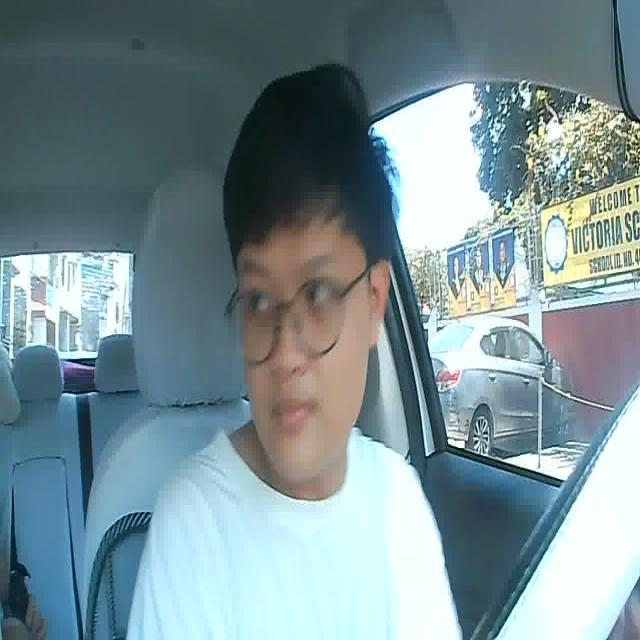Eye-Open: (242, 286, 275, 318), (304, 276, 337, 308)
Inattentive: (225, 61, 392, 481)
Normal: (269, 395, 319, 432)
